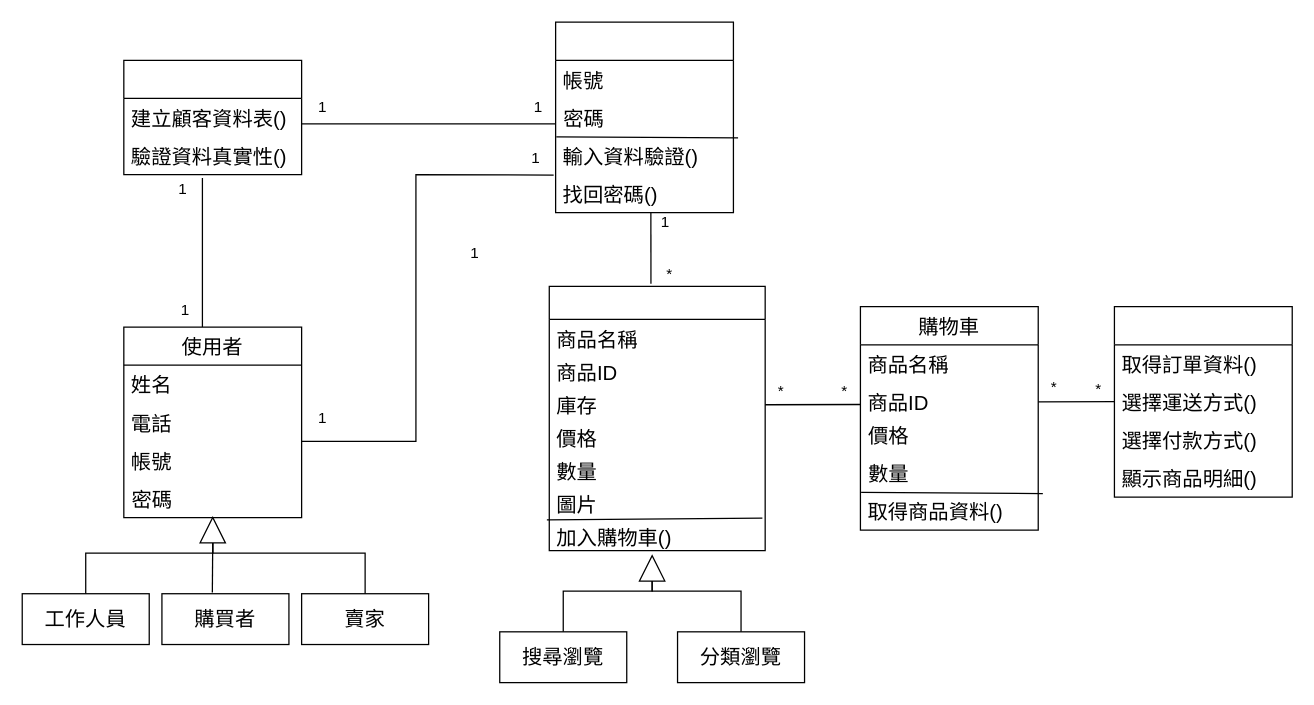
The diagram is 1314 pixels wide and 705 high, and some of its shapes have lost their labels. Each missing label, with the box of its shape:
瀏覽商品: (548, 285, 765, 551)
登入: (554, 21, 733, 213)
結帳: (1113, 305, 1292, 497)
註冊: (123, 59, 302, 175)
